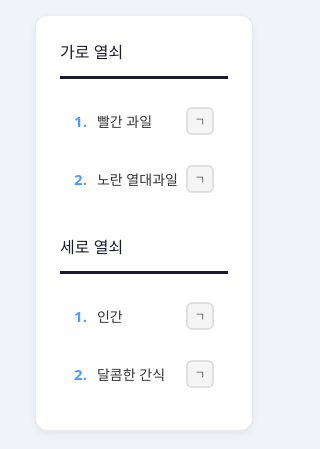
Test: HintPanel › 세로 단어 두 번째 항목 상호작용 › 두 번째 세로 단어 초성 토글
// 네 번째 버튼 (두 번째 세로 단어 '과자')
What coordinates should you click on to do the following:
click the button titled "초성 힌트" next to "달콤한 간식"
I would click on:
 (200, 374)
Its box is [186,360,214,388].
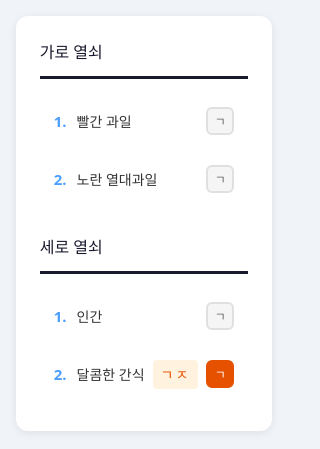
Expected: the text "ㄱㅈ" is shown, [153,360,198,388]
